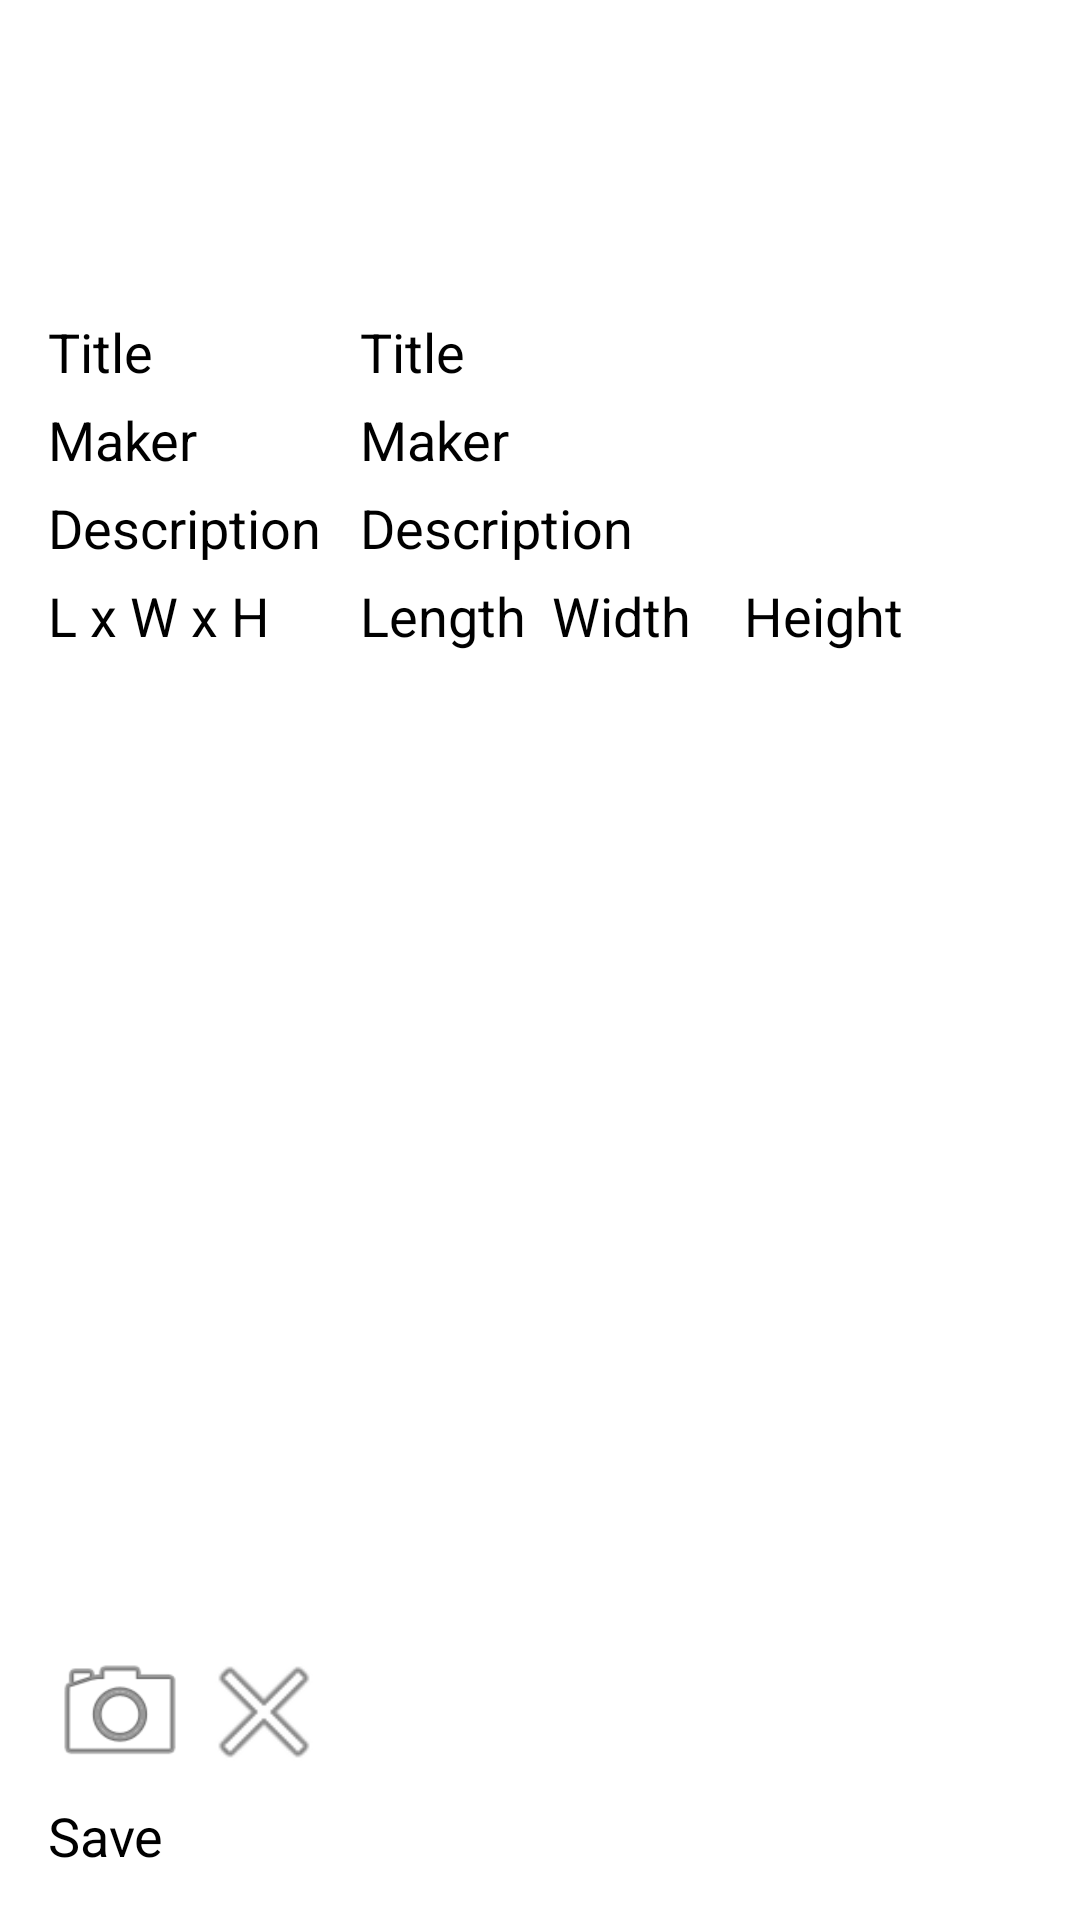

Icon bounding boxes for this 1080w x 1920h phone screenshot, format (x1, y1, x2, y2):
camera: (64, 1665, 176, 1754)
close clear cancel: (219, 1667, 309, 1757)
